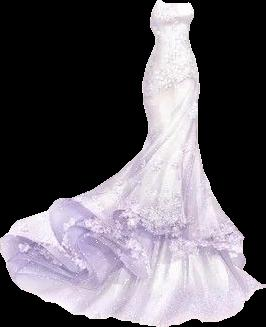Bodice: (150, 0, 193, 39)
Hemline: (0, 250, 265, 326), (4, 199, 243, 271)
Neckline: (151, 0, 190, 10)
Skirt: (0, 40, 265, 326)
